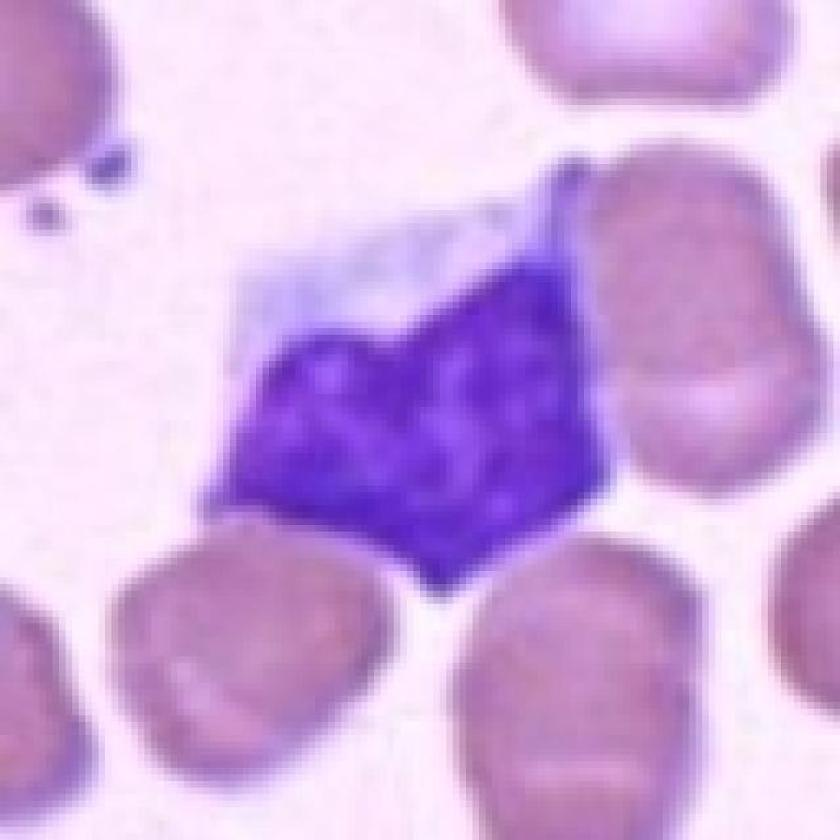lymphocyte: (206, 148, 630, 597)
